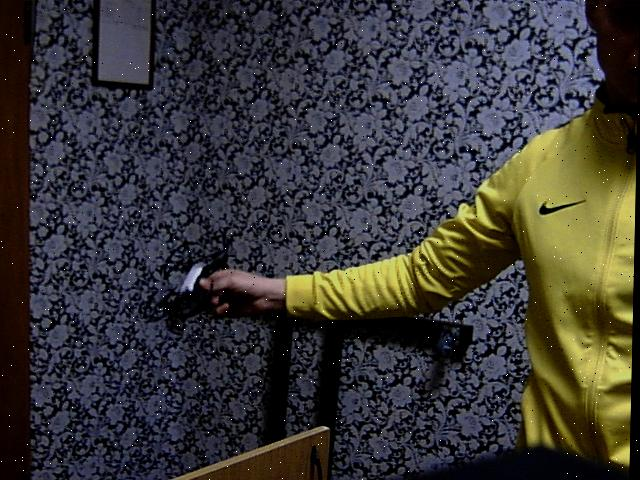drone: (127, 238, 255, 332)
